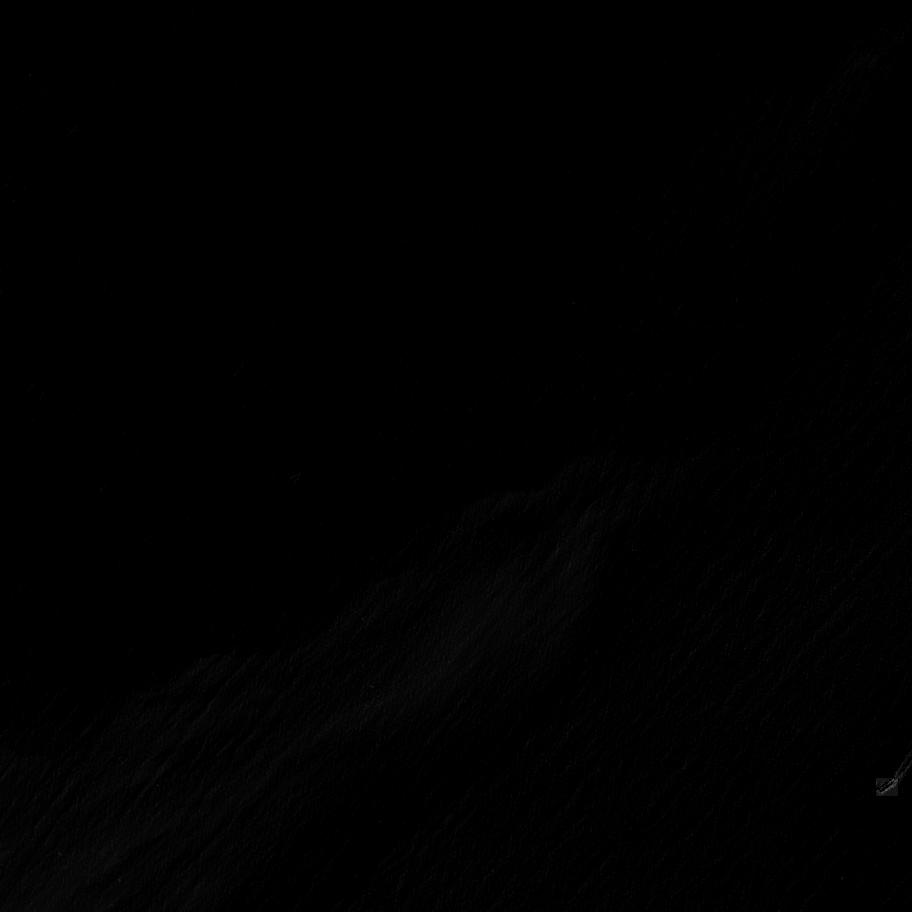ship: (877, 778, 900, 799), (300, 471, 305, 477)
